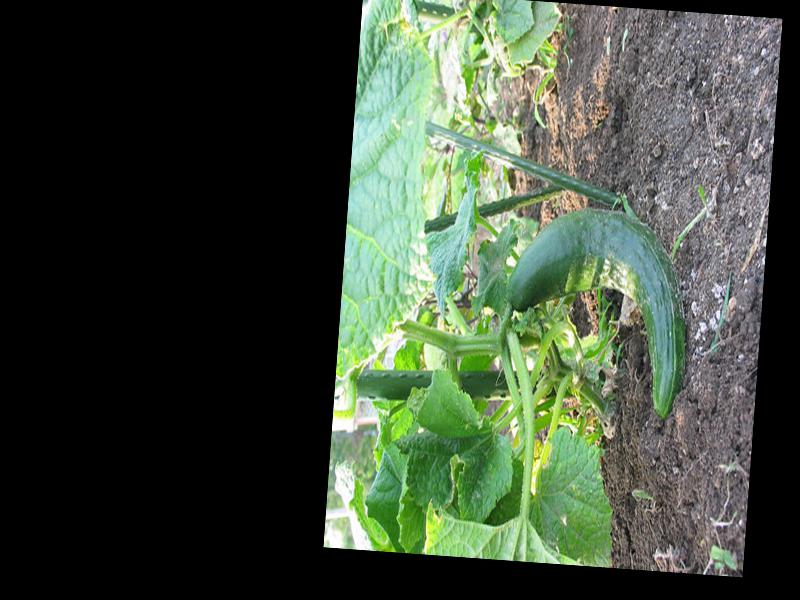Cucumber: (498, 201, 696, 421)
